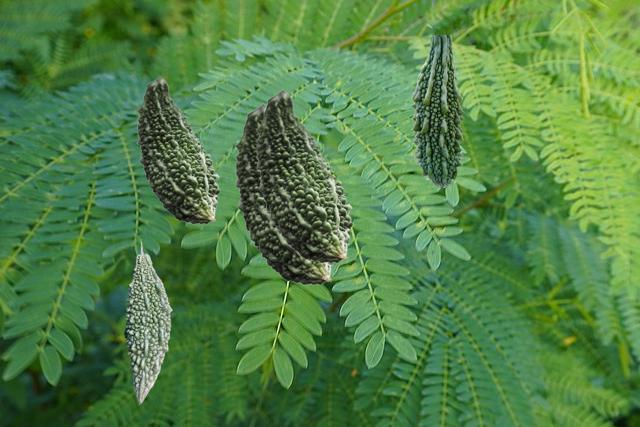ampalaya: (235, 103, 332, 284), (256, 89, 352, 262), (137, 76, 219, 223), (410, 35, 463, 186), (124, 239, 171, 403)
